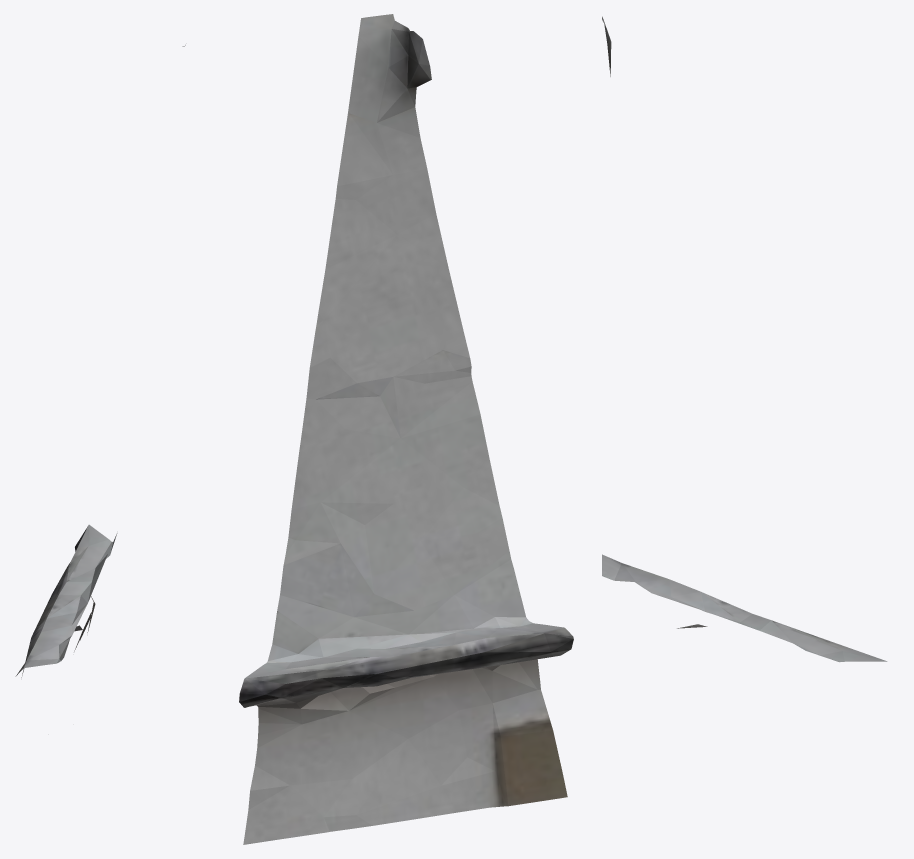
The picture shows the model from 3 angles, left to right: view 1: azimuth 30°, elevation 25°; view 2: azimuth 150°, elevation 25°; view 3: azimuth 270°, elevation 25°; orthographic projection. The views are drawn at different scales.
Bounding box in the file's own units: 0.4745 × 1.67 × 0.5508.
1 material, 1 textured.
